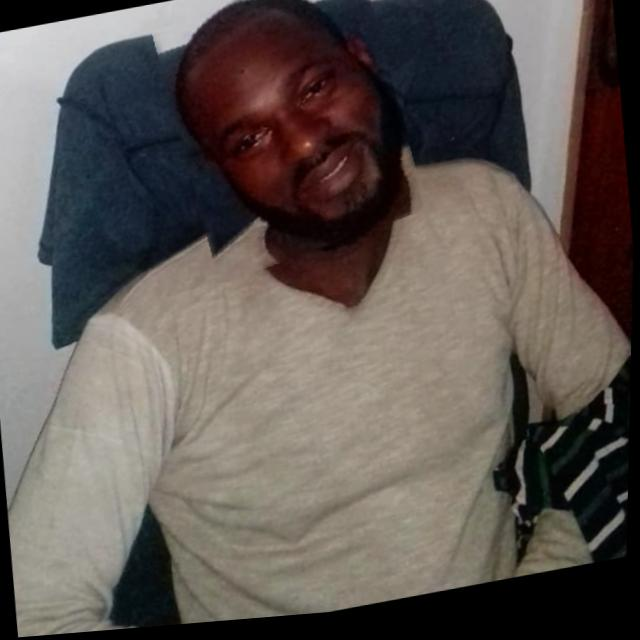happy: (154, 0, 423, 287)
